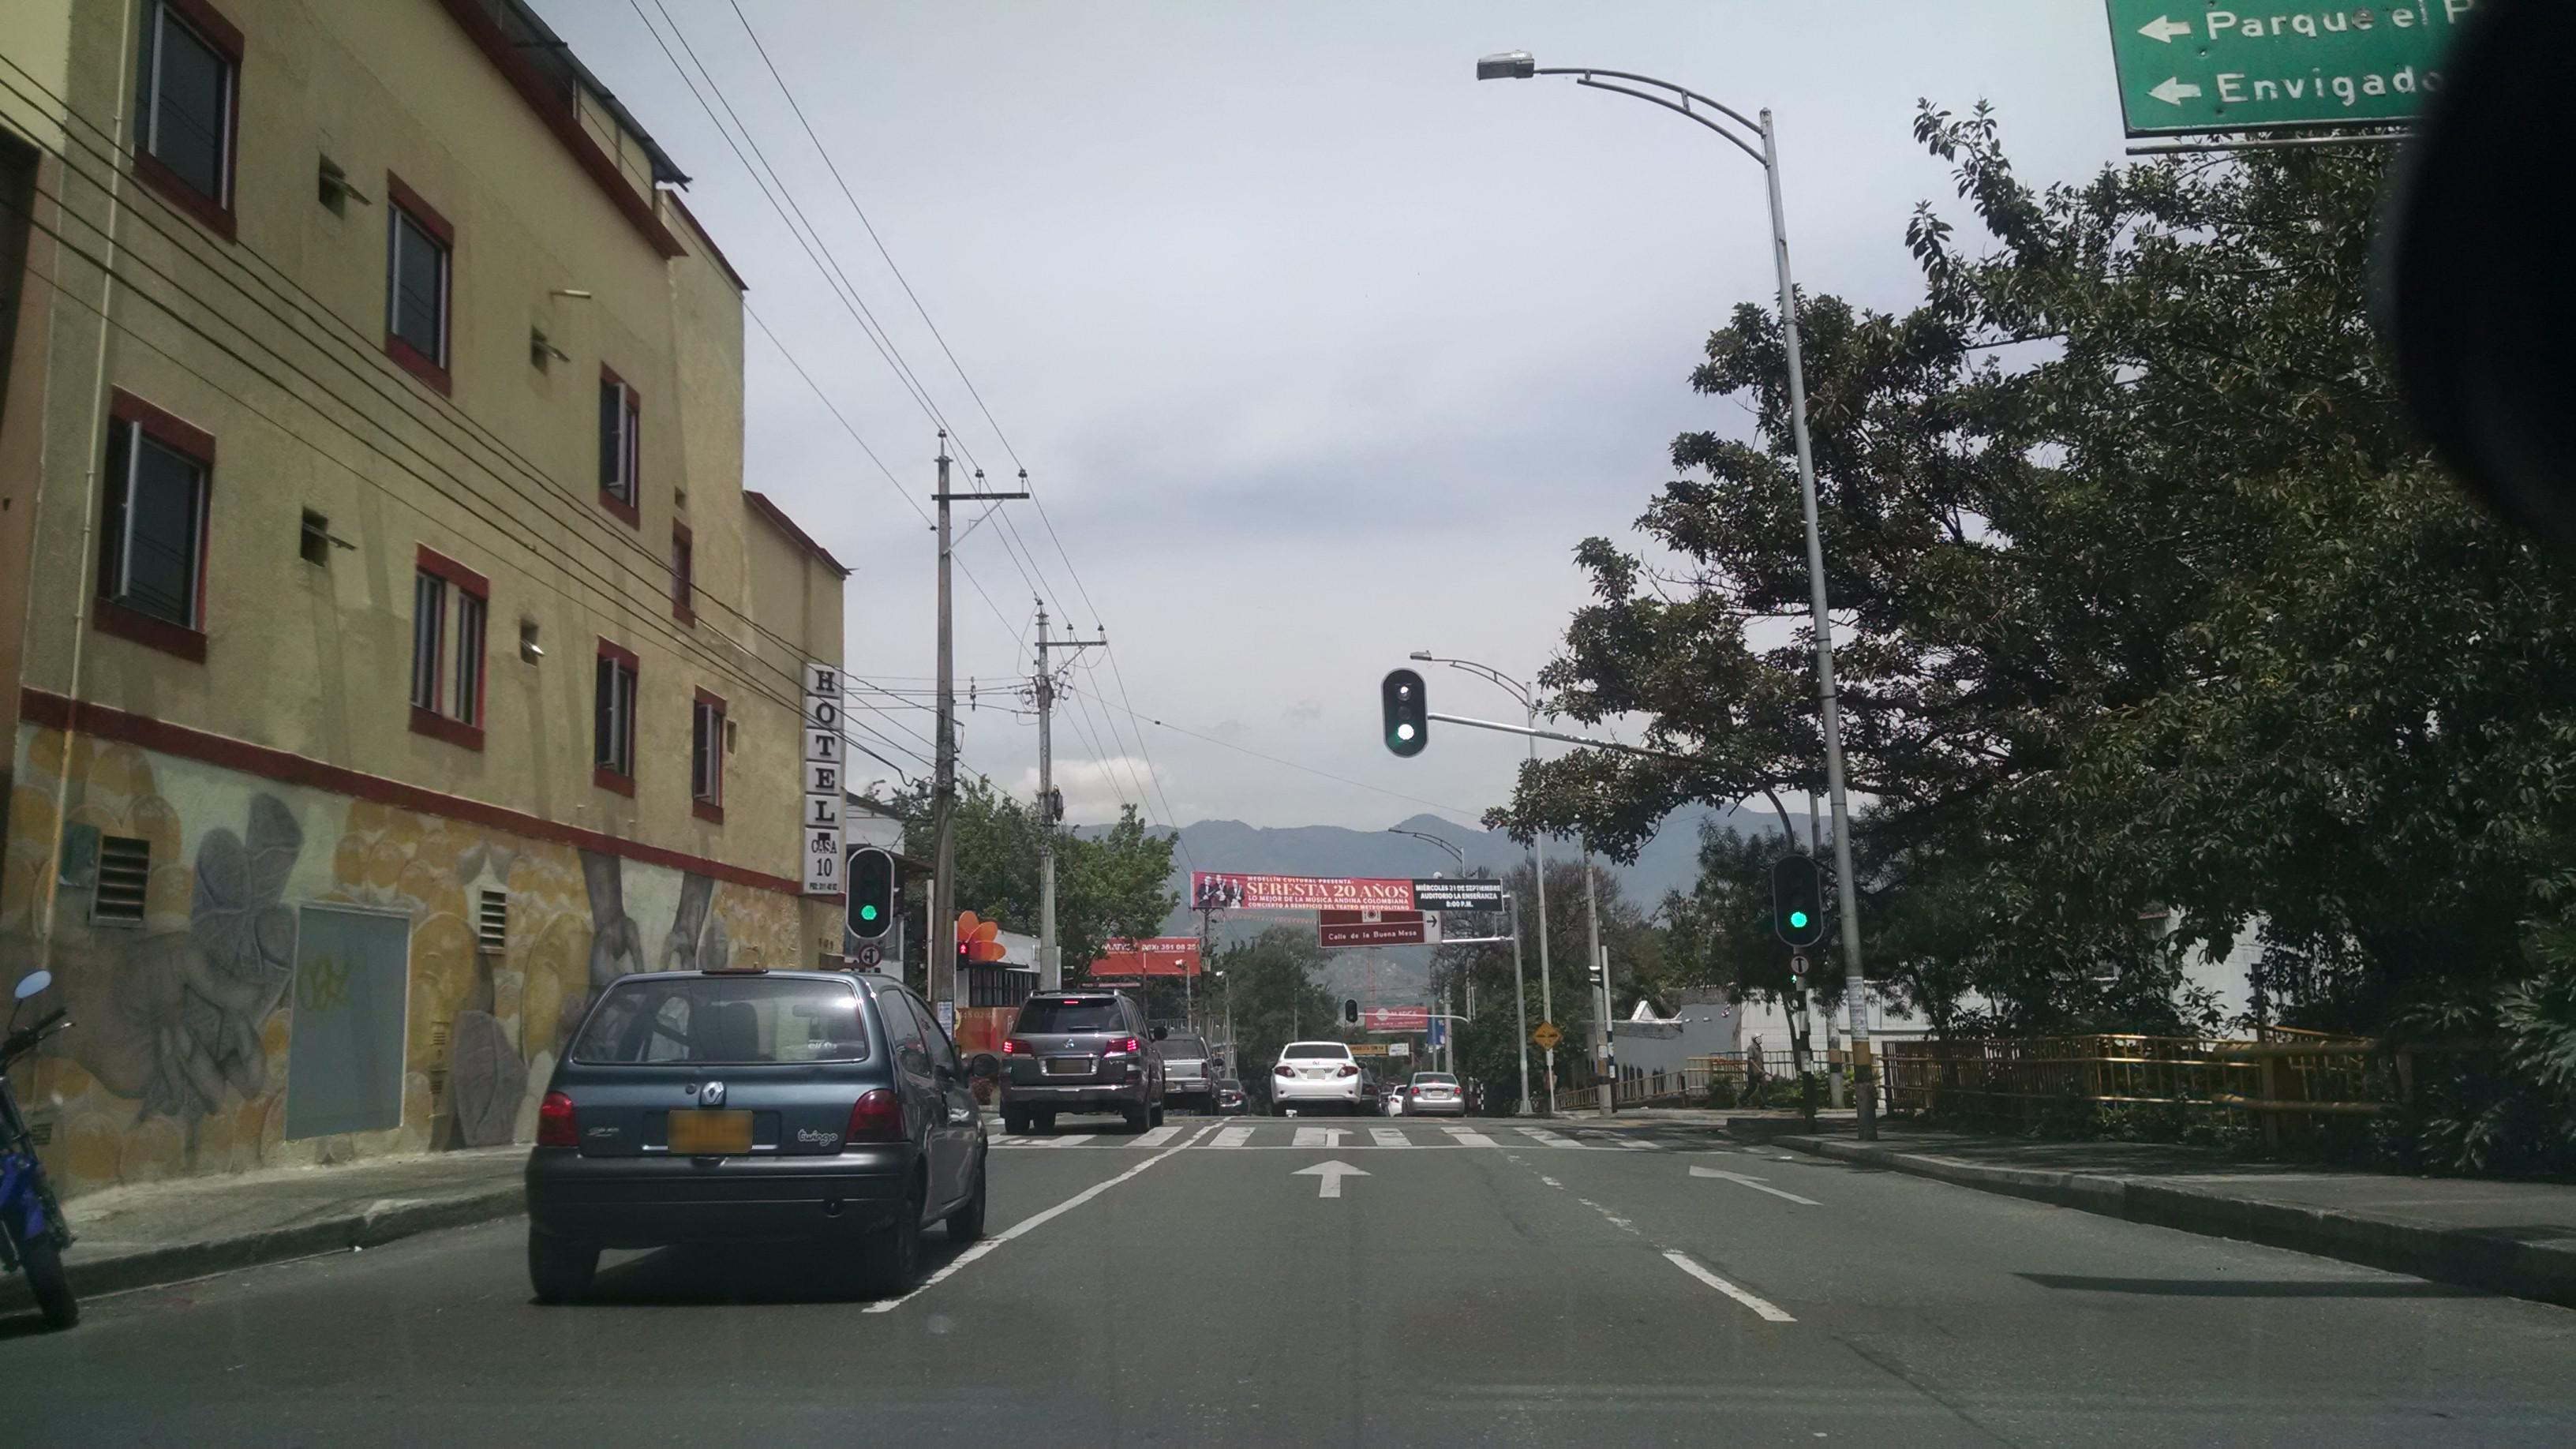vinyl banner: (1189, 846, 1534, 931)
